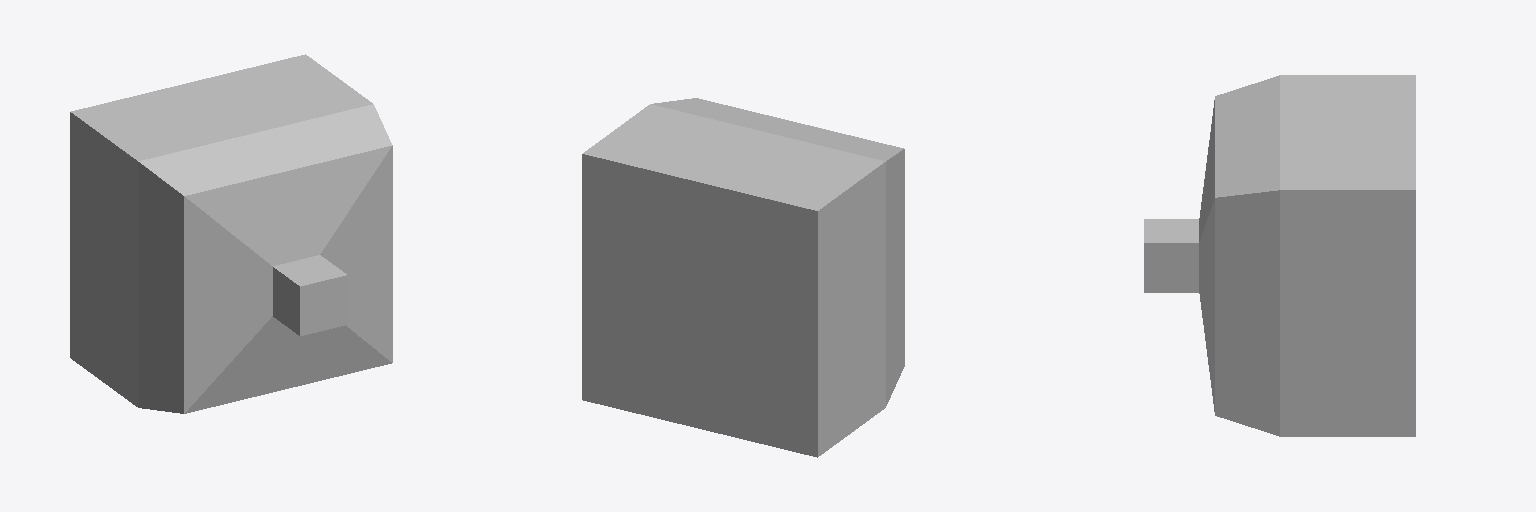
The model's file is wheelHandleBlender.obj.
3 views of the same model, side by side, from view 1: azimuth 30°, elevation 25°; view 2: azimuth 150°, elevation 25°; view 3: azimuth 270°, elevation 25° (orthographic).
Parts seen in each view (by area): view 1: Cube_Cube.001; view 2: Cube_Cube.001; view 3: Cube_Cube.001.
Boxes of the visible parts, x1=… form: Cube_Cube.001: x1=70, y1=54, x2=392, y2=413; Cube_Cube.001: x1=582, y1=98, x2=904, y2=457; Cube_Cube.001: x1=1144, y1=75, x2=1415, y2=436.
Size of the model in its own units: 1 by 1 by 1.